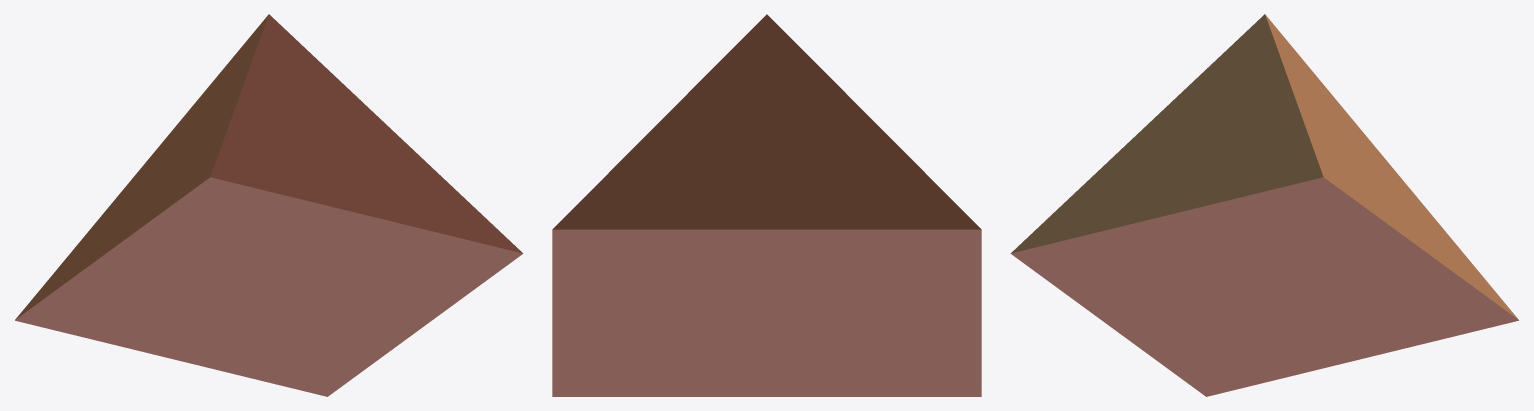
Rendered from demo-pyramid.glb.
3 views of the same model, side by side, from view 1: azimuth 30°, elevation 25°; view 2: azimuth 150°, elevation 25°; view 3: azimuth 270°, elevation 25° (orthographic). The views are drawn at different scales.
Visible parts, largest first — view 1: faceted_demo_pyramid; view 2: faceted_demo_pyramid; view 3: faceted_demo_pyramid.
Part boxes in pixels (<box>): faceted_demo_pyramid: <box>15,14,523,396</box>; faceted_demo_pyramid: <box>552,14,981,396</box>; faceted_demo_pyramid: <box>1010,14,1518,396</box>.
Bounding box in the file's own units: 2.07 × 1.2 × 2.03.
